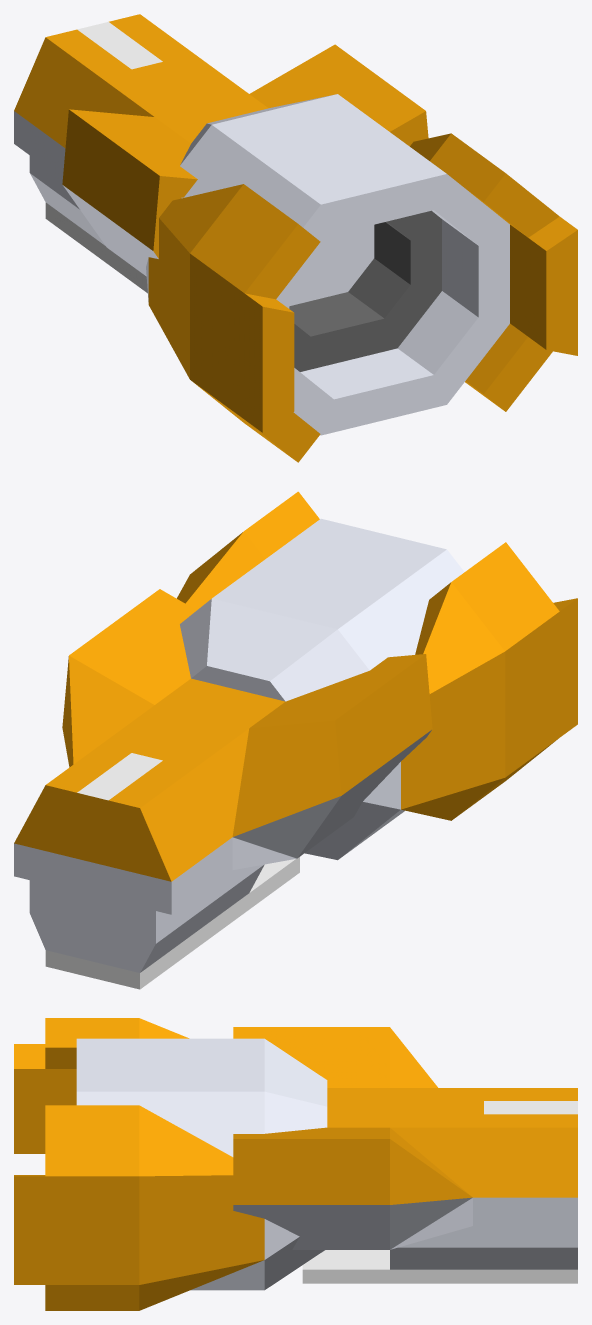
Rendered from Sunburt_plasma_cannon.fbx.
3 renders of one model, top to bottom at view 1: azimuth 30°, elevation 25°; view 2: azimuth 150°, elevation 25°; view 3: azimuth 270°, elevation 25°, orthographic. The views are drawn at different scales.
Visible parts, largest first — view 1: mergedBlocks; view 2: mergedBlocks; view 3: mergedBlocks.
Boxes of the visible parts, x1,y1,x2,y2 form: mergedBlocks: [14, 14, 577, 462]; mergedBlocks: [14, 491, 577, 989]; mergedBlocks: [14, 1018, 577, 1310].
Bounding box in the file's own units: 10 × 7.24 × 18.
